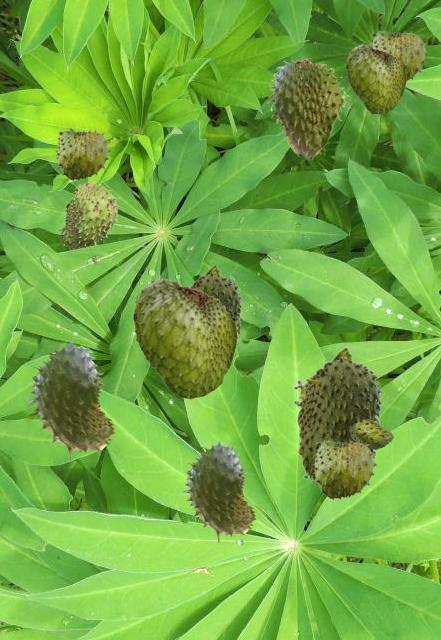guyabano: (293, 346, 384, 497), (133, 276, 236, 398), (28, 340, 114, 460), (267, 59, 348, 159), (183, 440, 255, 542), (189, 264, 243, 350), (346, 43, 405, 113), (58, 182, 117, 249), (312, 437, 376, 498), (370, 28, 427, 82), (55, 127, 110, 179), (350, 419, 392, 448)
